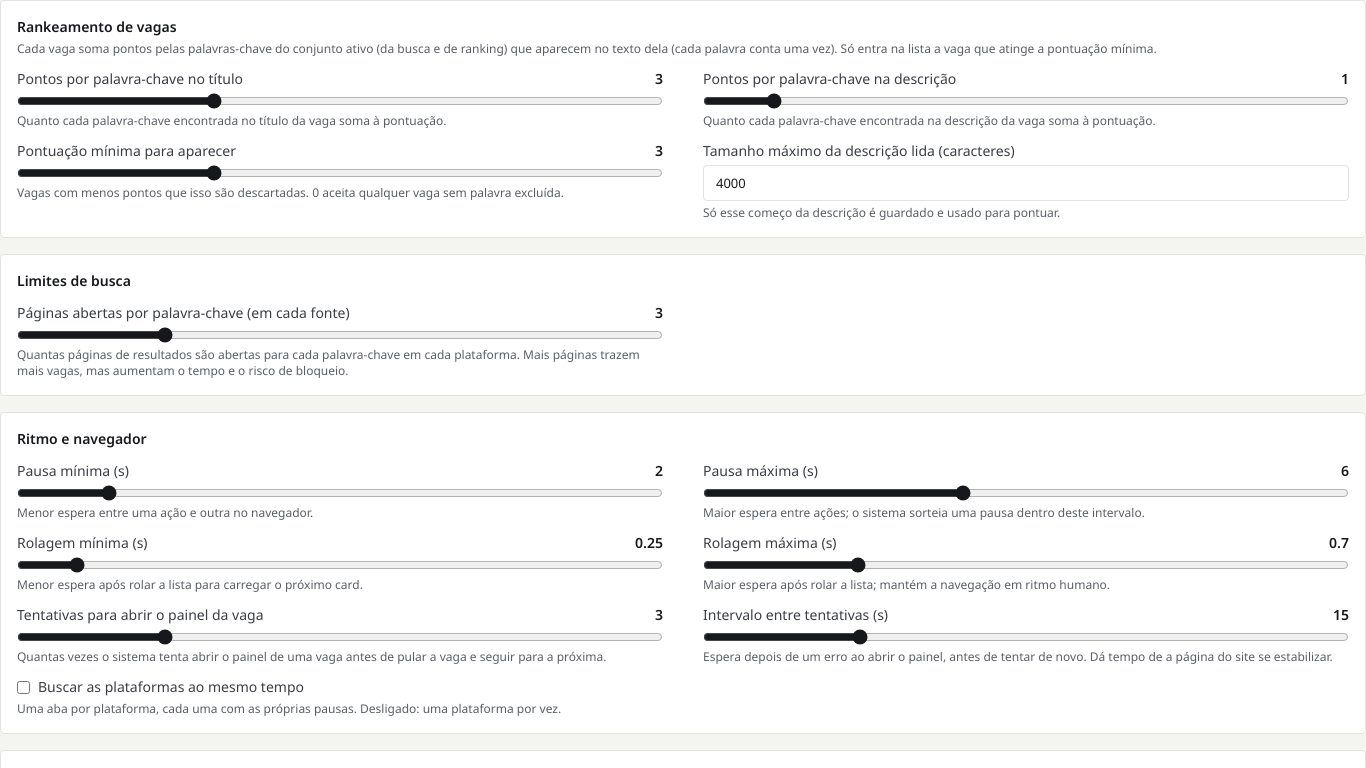
Test: ConfigPage › salva ao soltar o controle deslizante do ritmo
Set the slider labelled "Pausa mínima (s)" to "4" at (193, 493), box [17,485,663,501]
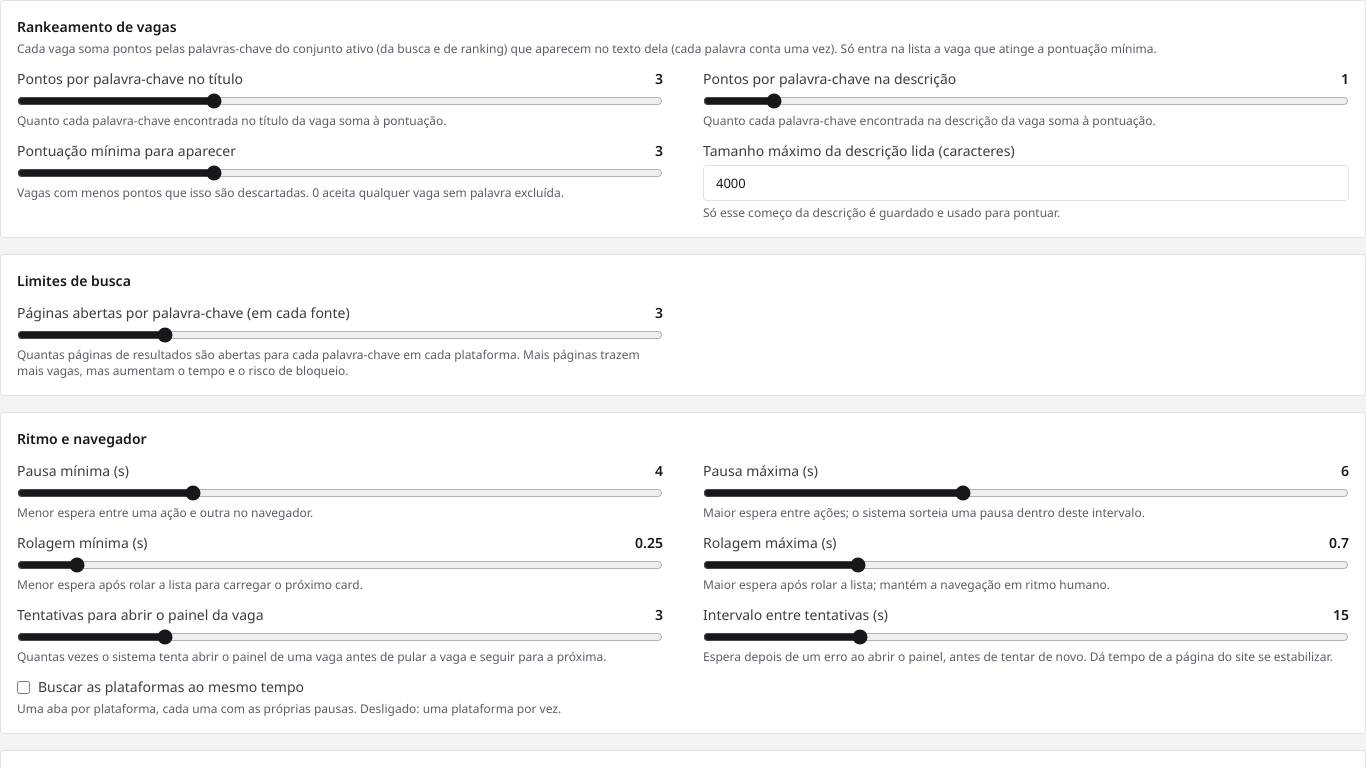
Press ArrowRight in the slider labelled "Pausa mínima (s)", box [17,485,663,501]
(page scrolled)
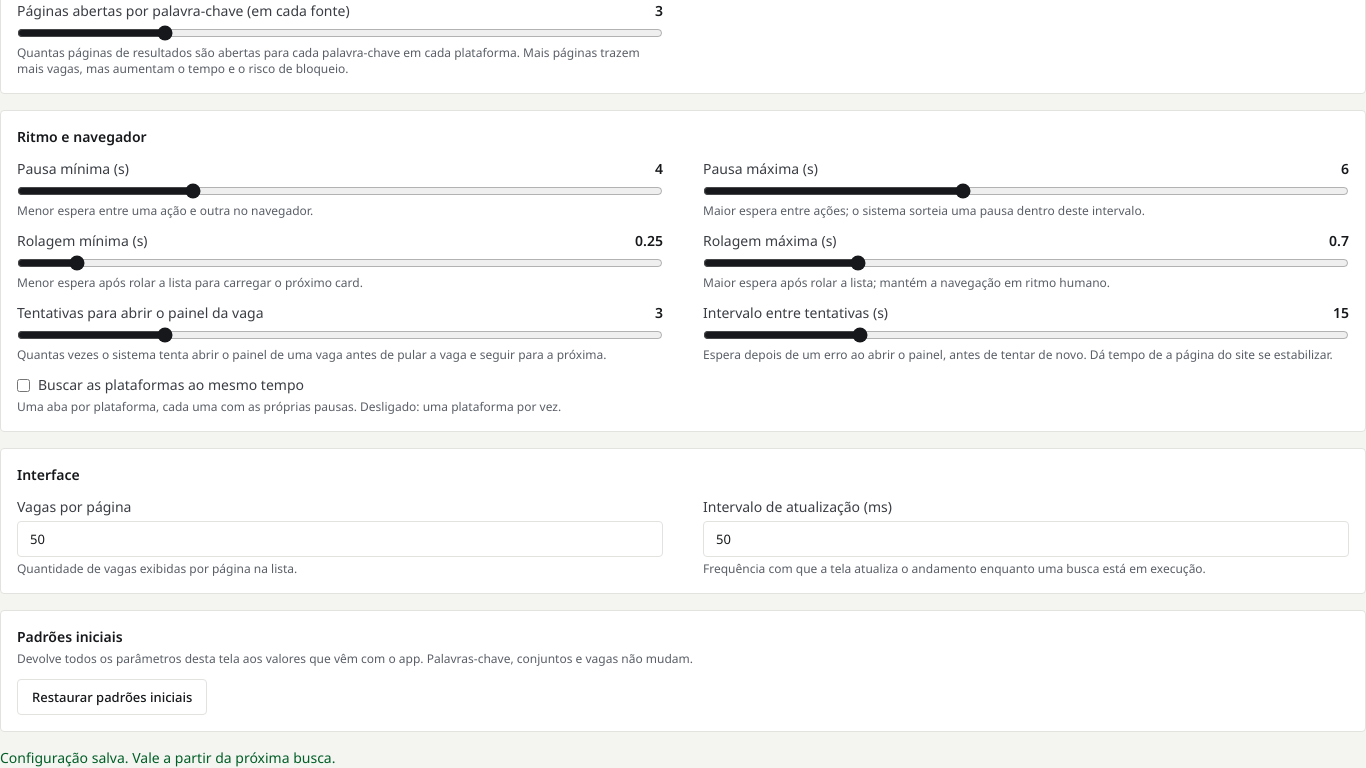
Check: the text "Configuração salva. Vale a partir da próxima busca." is shown, box [0,748,336,767]
